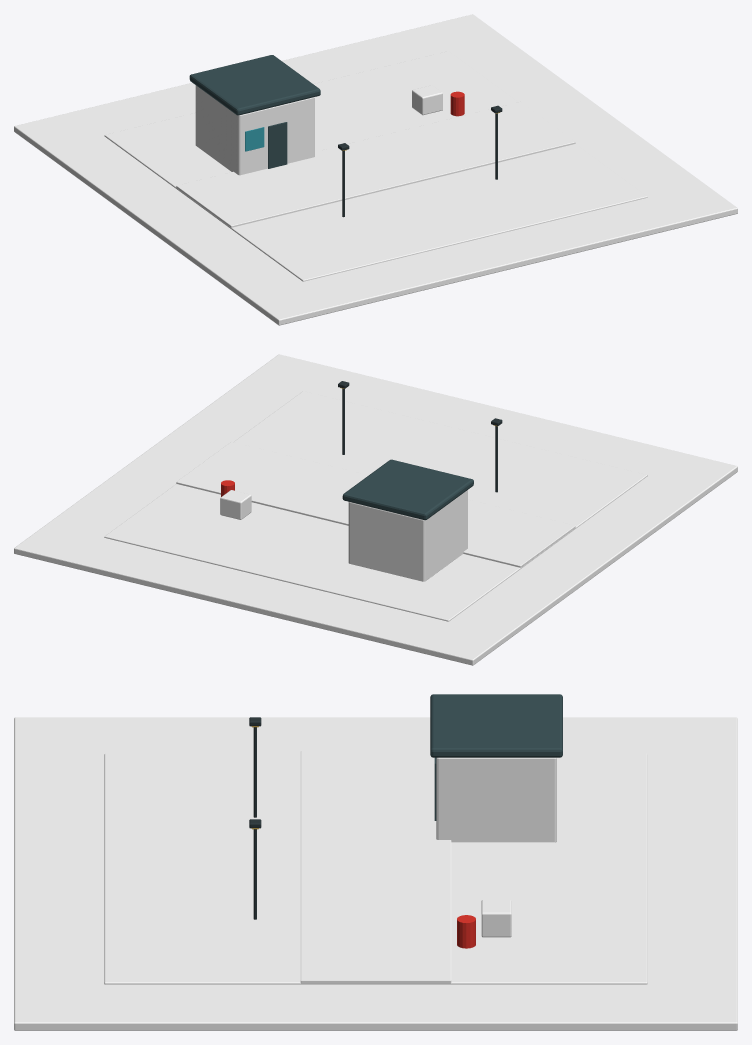
File: 01_Welcome_Yard.gltf
3 views of the same model, one above another, from view 1: azimuth 30°, elevation 25°; view 2: azimuth 150°, elevation 25°; view 3: azimuth 270°, elevation 25° (orthographic). The views are drawn at different scales.
Visible parts, largest first — view 1: Welcome Ground, Welcome Pad, Road, House body, House roof, Door, Crate; view 2: Welcome Ground, Welcome Pad, Road, House body, House roof, Crate; view 3: Welcome Ground, Welcome Pad, Road, House body, House roof, Crate, Barrel.
Boxes of the visible parts, x1,y1,x2,y2 form: Welcome Ground: (14,14,737,325); Welcome Pad: (104,51,647,281); Road: (176,101,575,227); House body: (195,85,314,175); House roof: (189,55,320,115); Door: (268,122,287,168); Crate: (412,85,442,115); Welcome Ground: (14,354,737,665); Welcome Pad: (104,391,647,621); Road: (176,441,575,567); House body: (348,490,467,581); House roof: (342,459,473,520); Crate: (220,490,251,519); Welcome Ground: (14,717,737,1030); Welcome Pad: (104,753,647,984); Road: (300,751,451,983); House body: (436,757,556,842); House roof: (430,694,562,757); Crate: (481,900,511,937); Barrel: (457,915,475,948).
Bounding box in the file's own units: 24 × 3.94 × 24.
